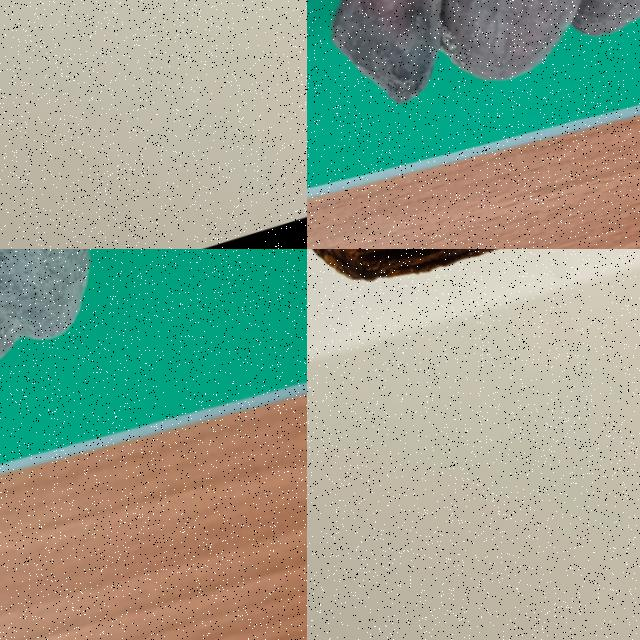Agglomerated_cocoabeans: (307, 0, 639, 194), (0, 249, 199, 460)
Flat_cocoabeans: (307, 249, 639, 362)
